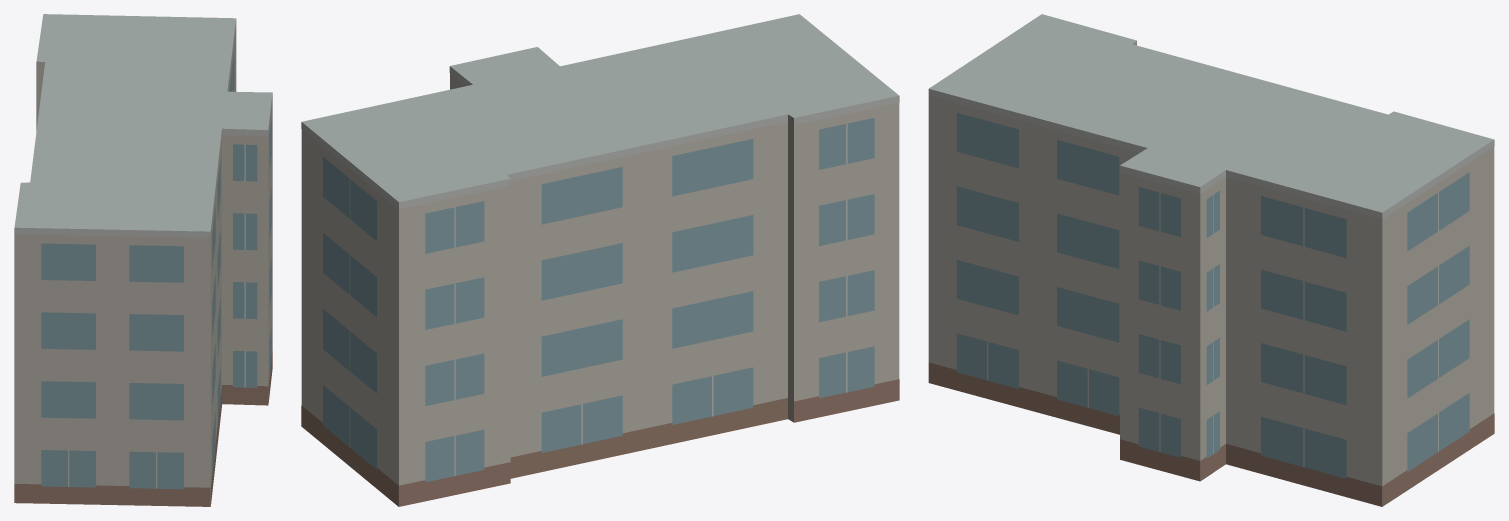
Rendered from survey-upis-32534687.glb.
The picture shows the model from 3 angles, left to right: view 1: azimuth 30°, elevation 25°; view 2: azimuth 150°, elevation 25°; view 3: azimuth 270°, elevation 25°; orthographic projection. The views are drawn at different scales.
Visible parts, largest first — view 1: survey-upis-32534687.tmp; view 2: survey-upis-32534687.tmp; view 3: survey-upis-32534687.tmp.
Part boxes in pixels (<box>): survey-upis-32534687.tmp: <box>14,14,272,506</box>; survey-upis-32534687.tmp: <box>301,14,899,506</box>; survey-upis-32534687.tmp: <box>928,14,1494,506</box>.
Bounding box in the file's own units: 15.22 × 10.5 × 18.31.
